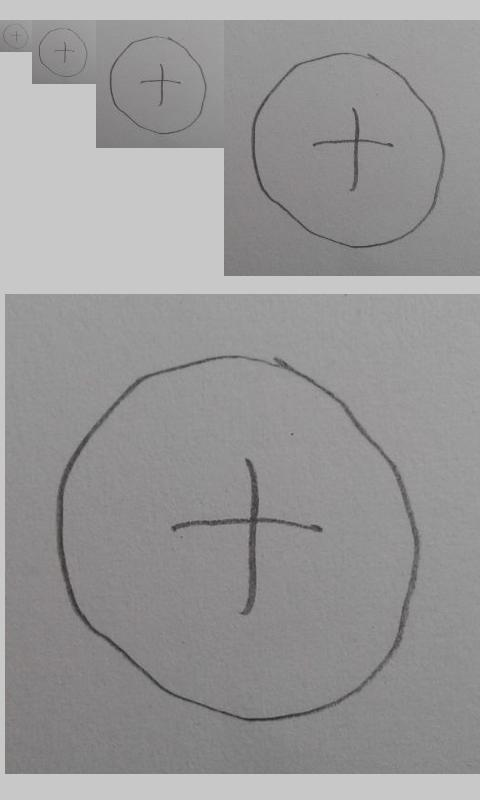button: (56, 352, 423, 724), (249, 51, 448, 250), (109, 36, 207, 135), (38, 27, 88, 78), (3, 23, 29, 49)
